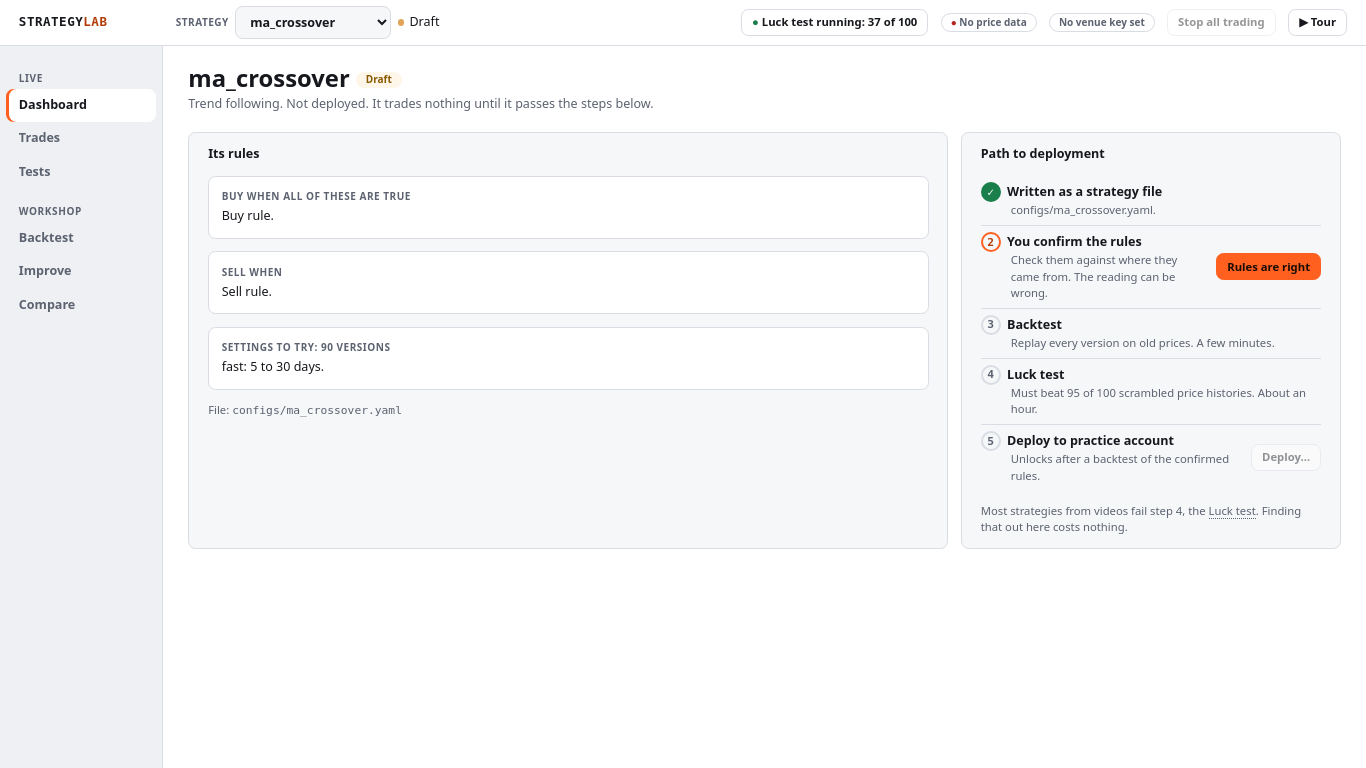
Scenario: the app, while a job runs › shows the running job in the top bar and opens it when pressed
Click the button "● Luck test running: 37 of 100". click: (835, 22)
box: 741,9 -> 928,36
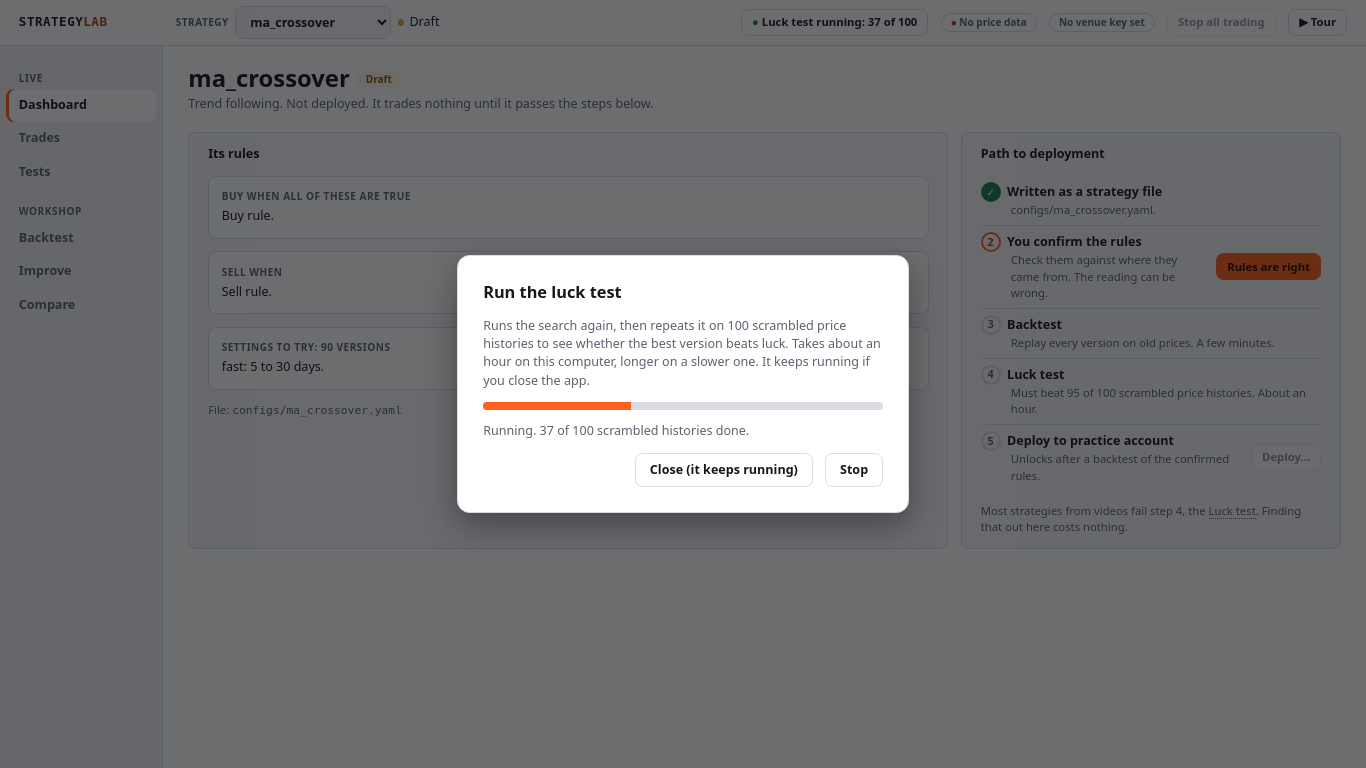
Now the dialog is shown
Now the message shows "37 of 100 scrambled histories done", box 483,422 -> 749,439
